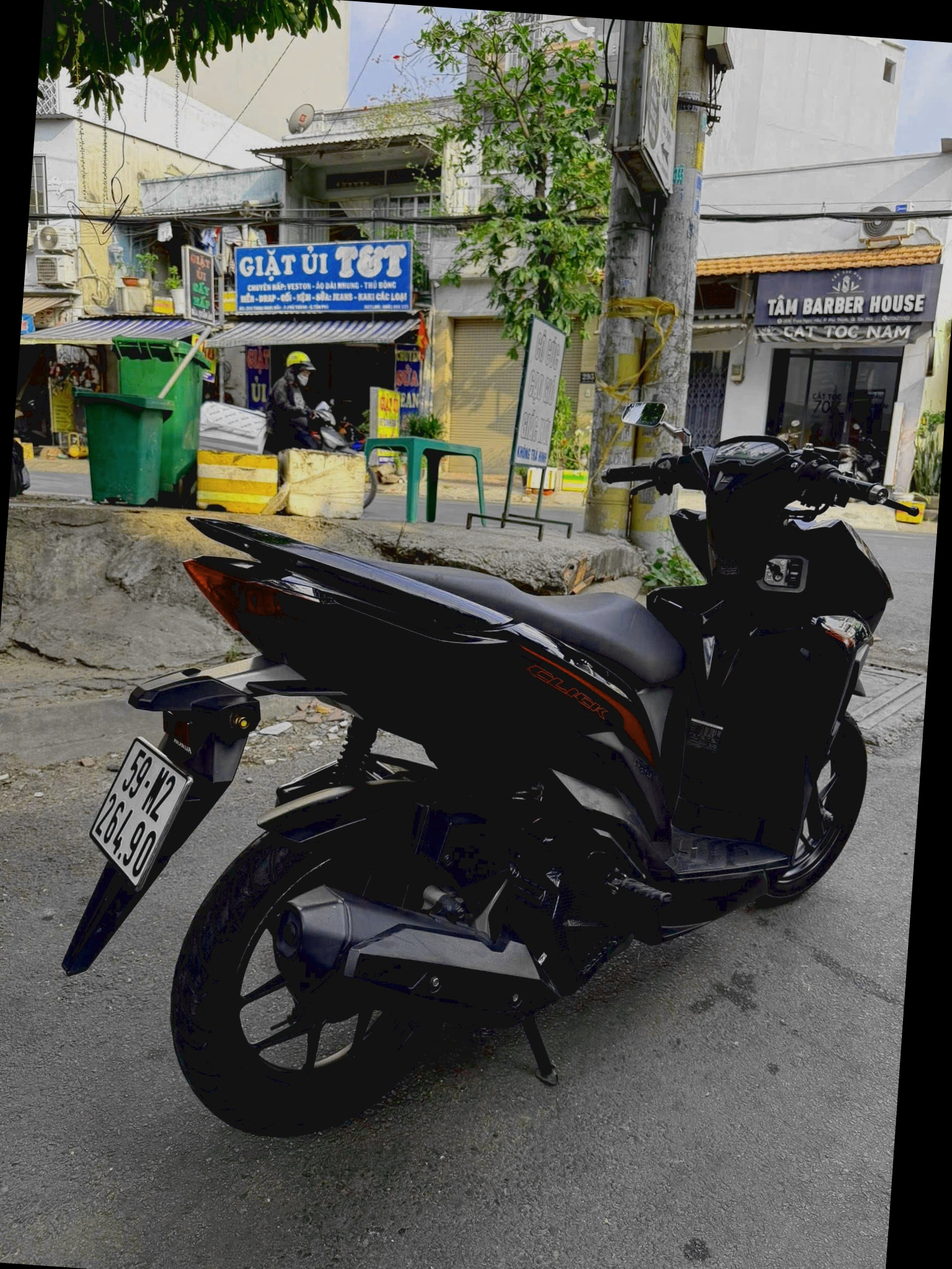Bien-so: (102, 738, 208, 902)
